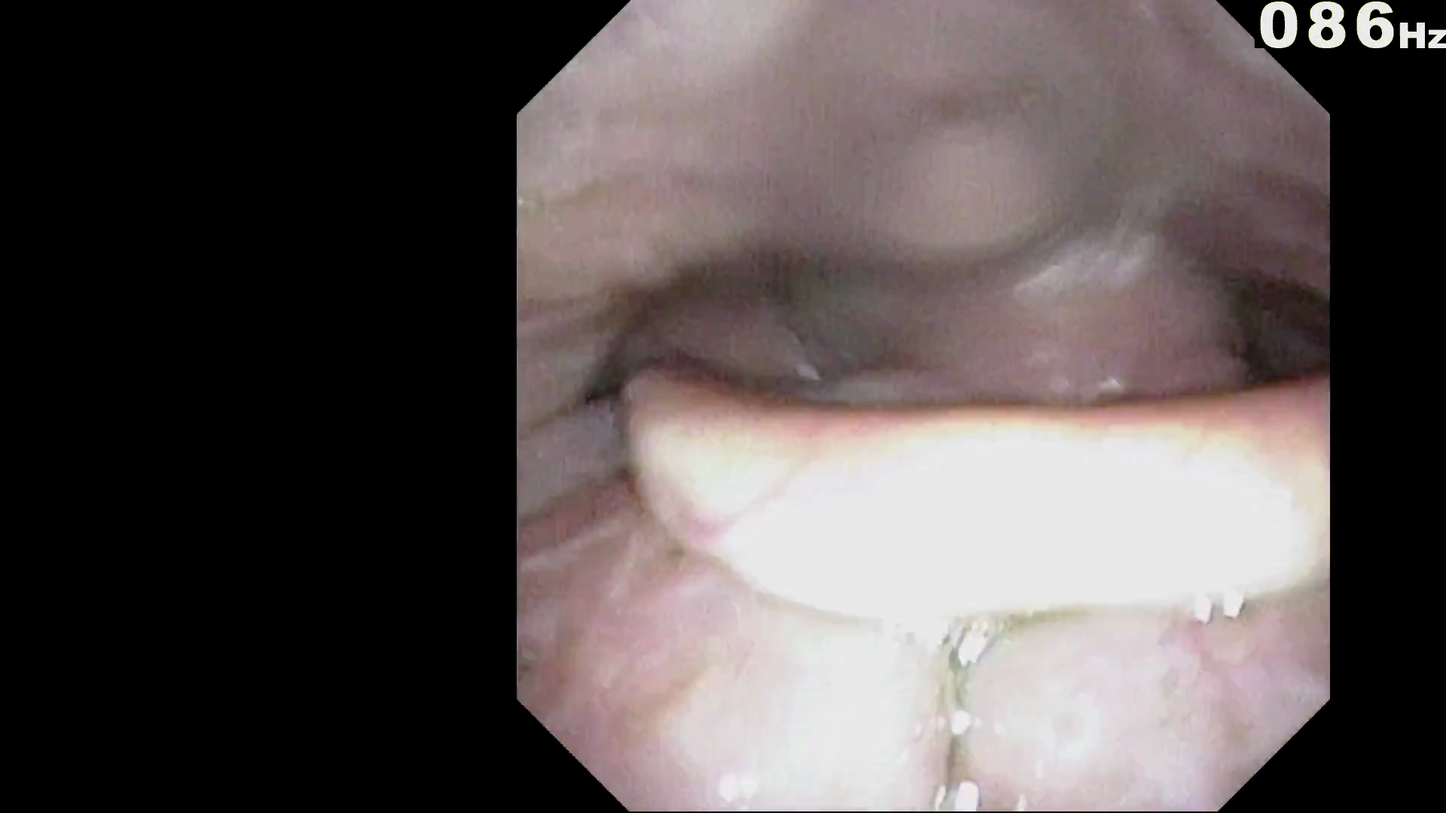epiglottis: (651, 476, 1266, 700)
trachea: (936, 494, 1082, 608)
